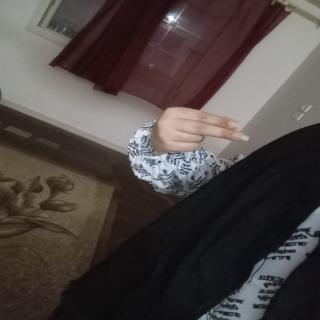AYN: (134, 100, 259, 172)
